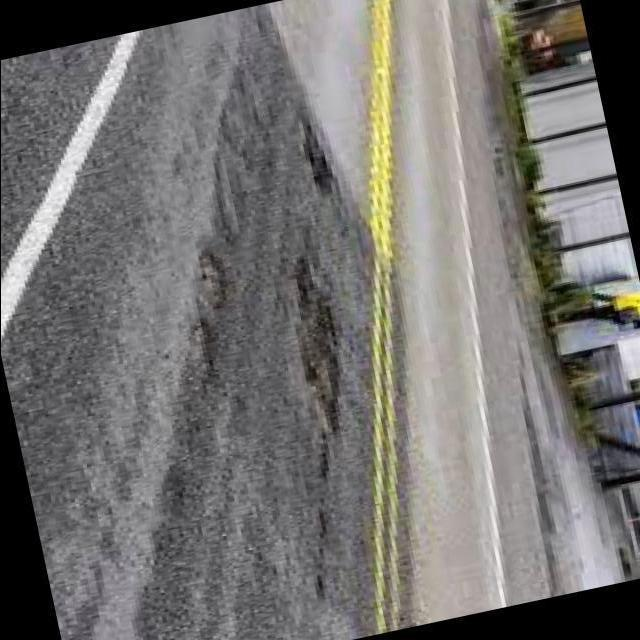pothole: (287, 239, 344, 596), (302, 128, 334, 194), (193, 325, 216, 395), (198, 253, 222, 301)
